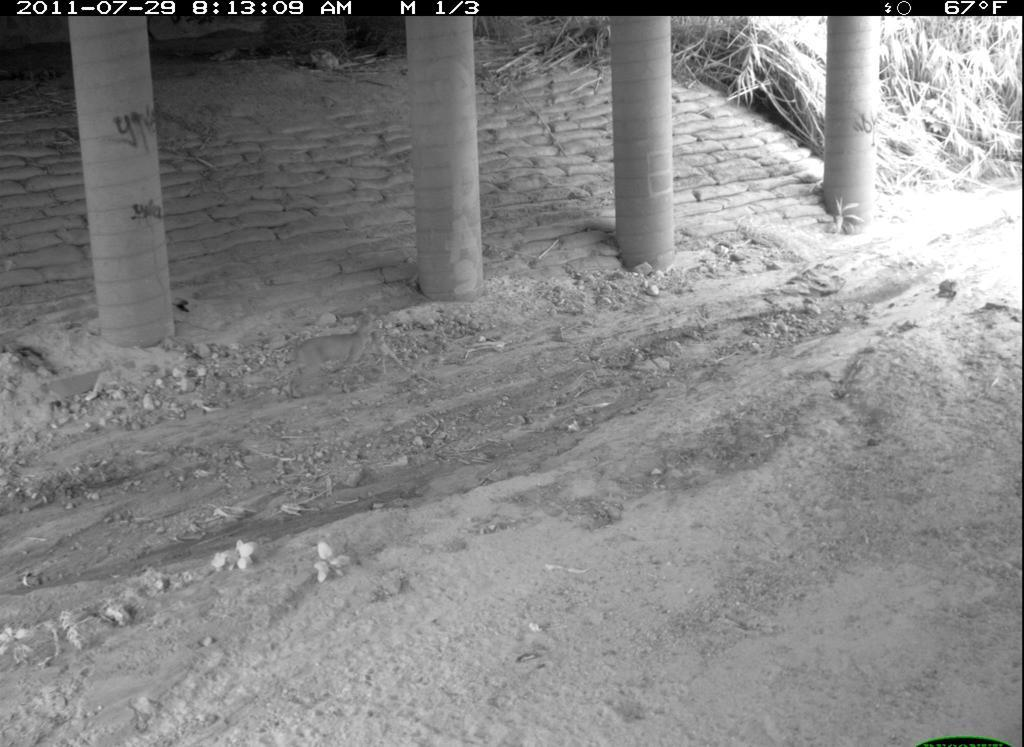bobcat: (560, 615, 790, 747)
rabbit: (734, 648, 815, 747)
